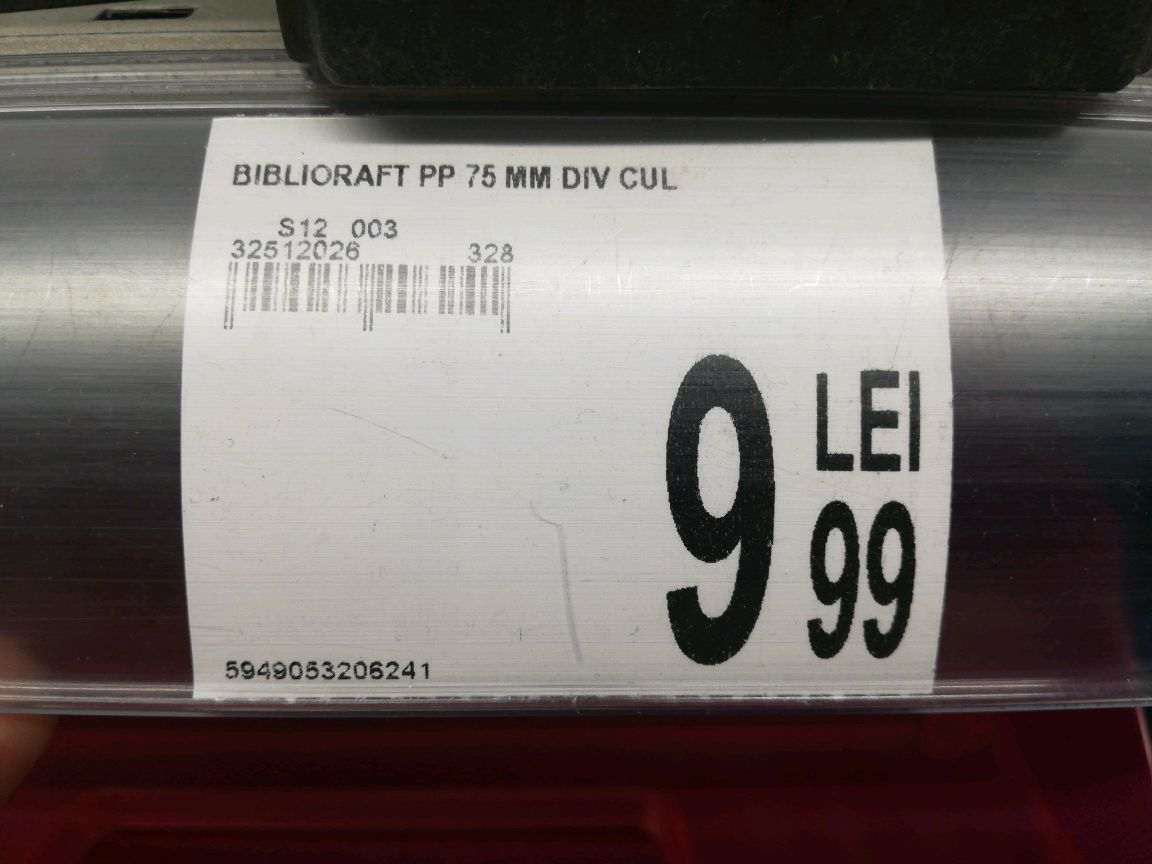price_bani: (793, 493, 932, 674)
price_lei: (642, 342, 787, 683)
price_tag: (173, 108, 970, 705)
product_id: (206, 647, 443, 688)
product_name: (204, 145, 697, 206)
